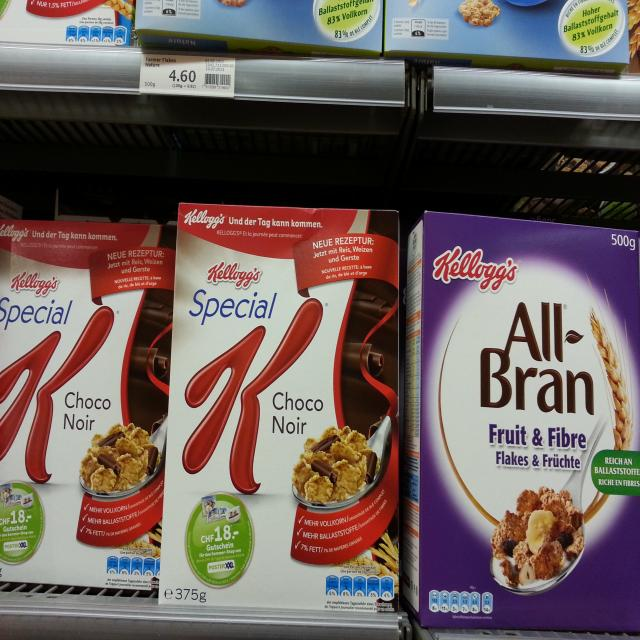Cereals: (156, 204, 403, 616), (406, 208, 640, 634), (0, 218, 171, 589), (384, 0, 631, 70), (133, 2, 382, 52), (0, 0, 132, 48)
